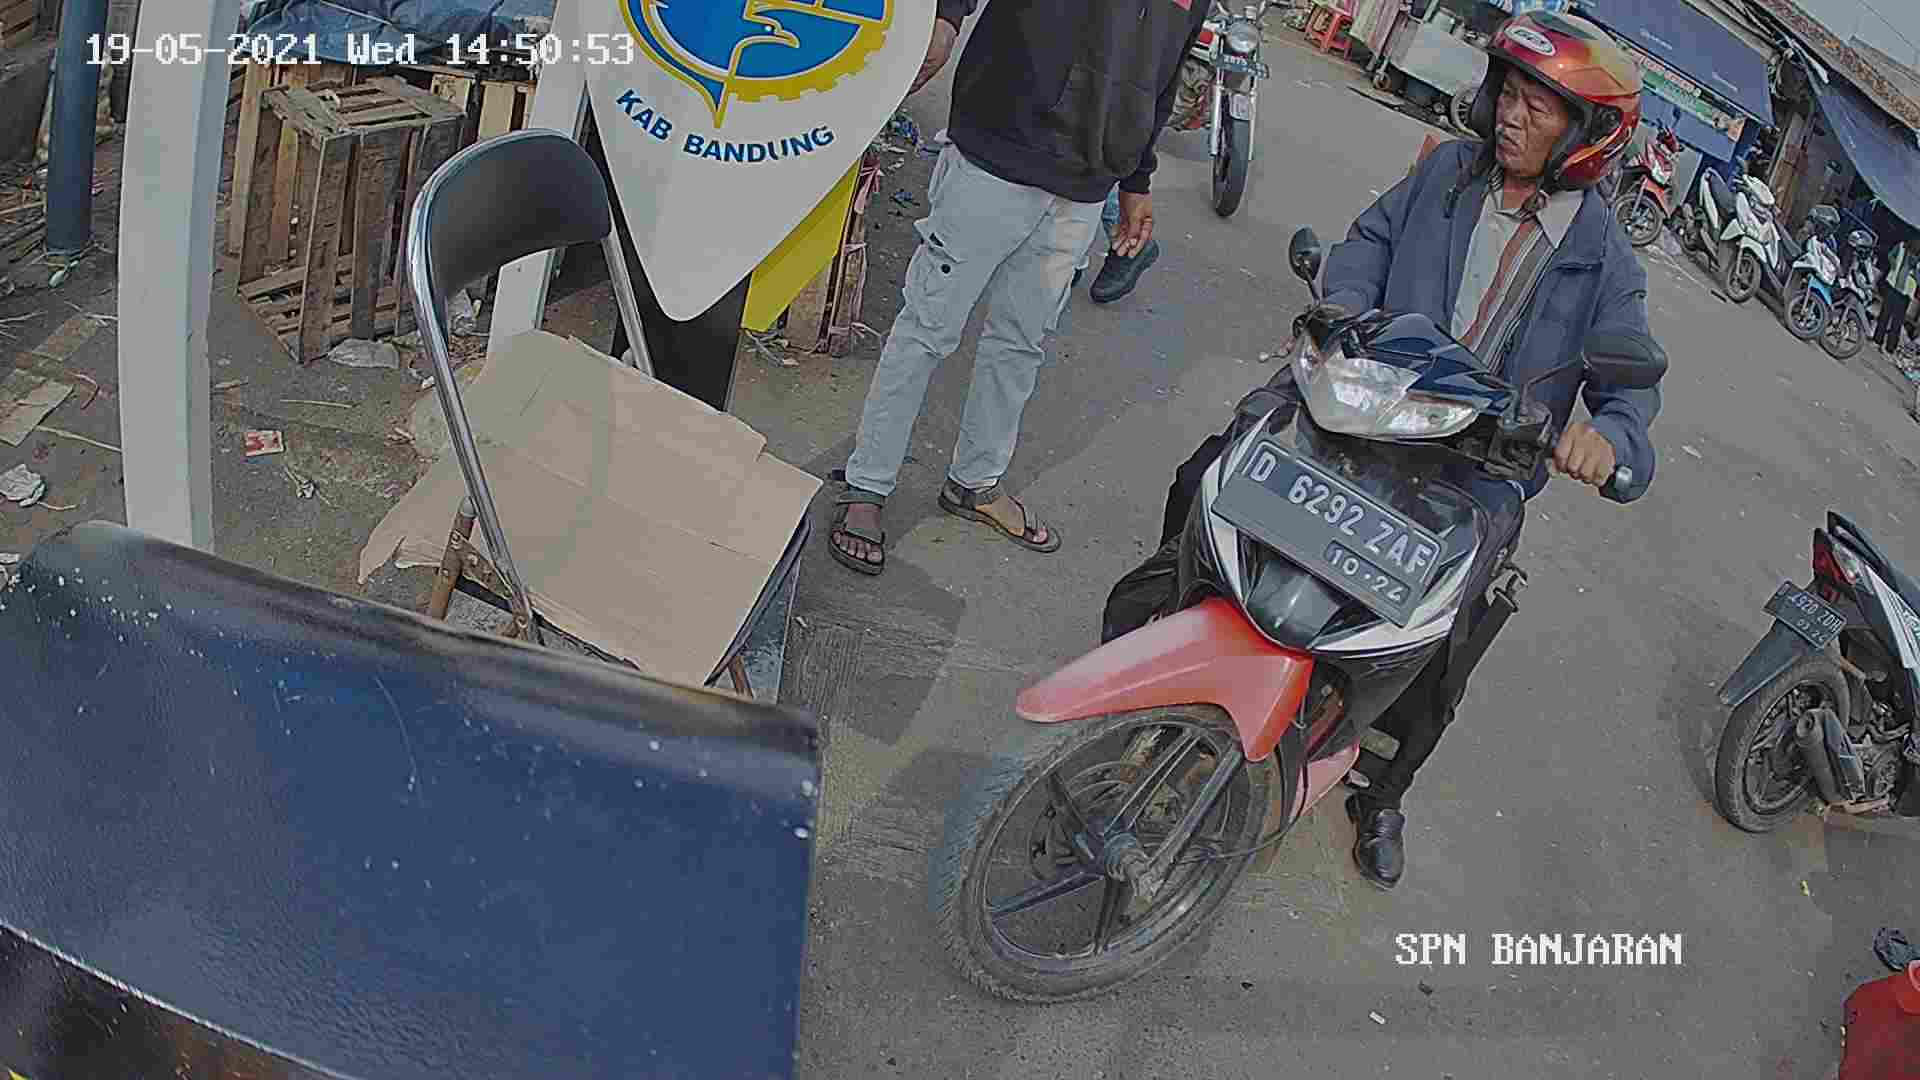motor: (844, 253, 1621, 978)
